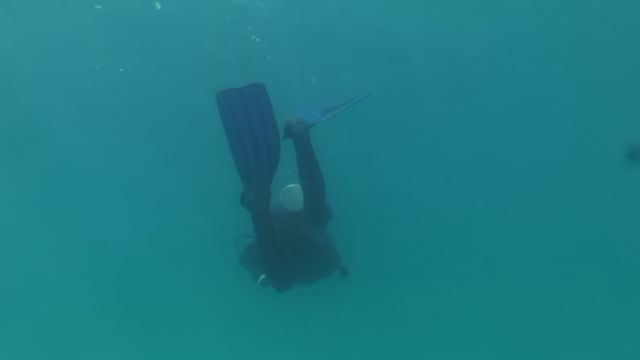Diver: (205, 60, 377, 302)
